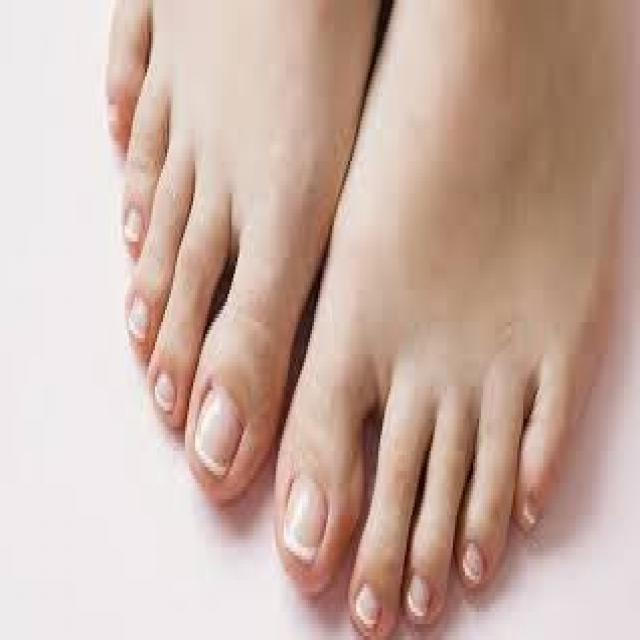No_Shoes: (279, 12, 630, 629), (71, 0, 348, 492)
